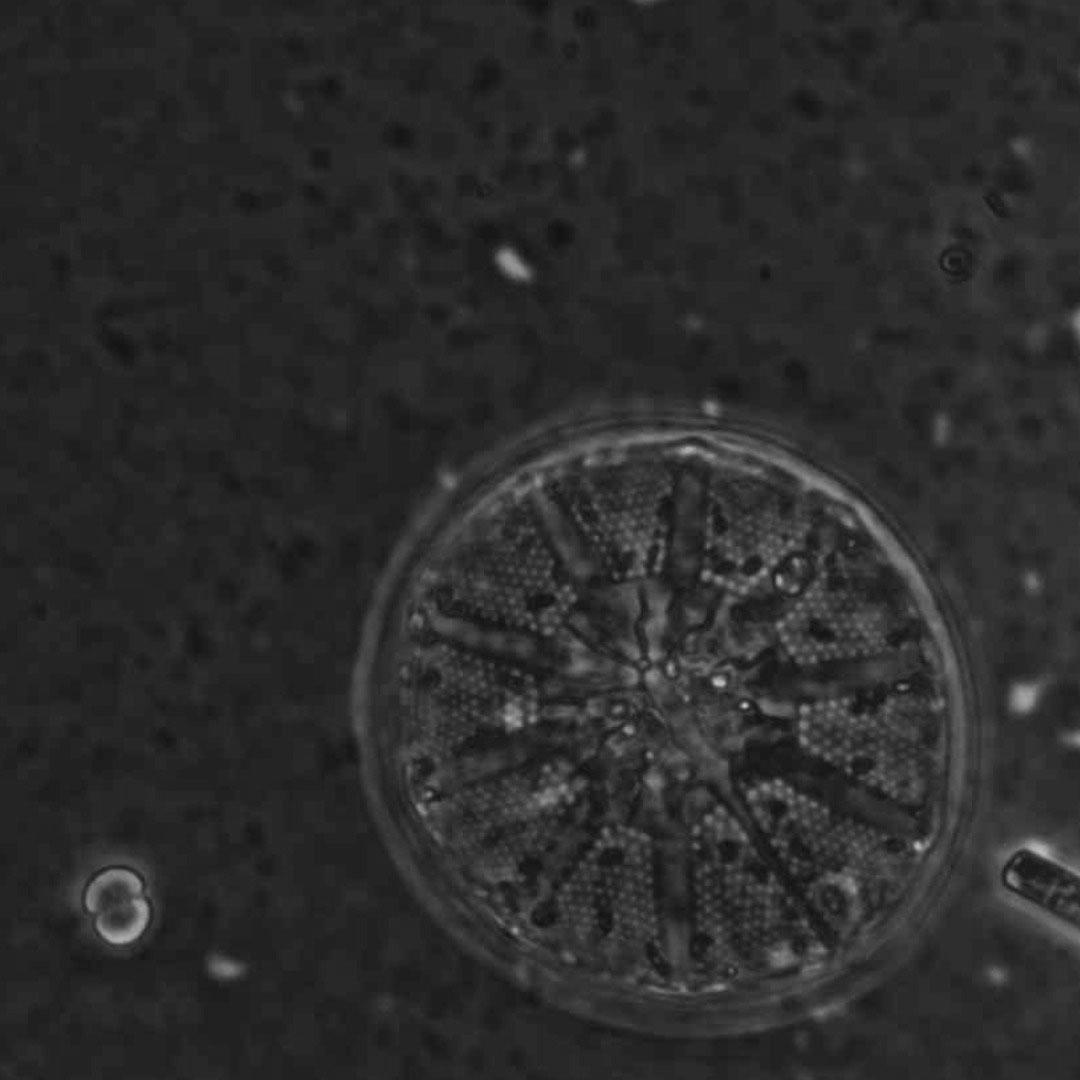asteromphalus_hyalinus: (376, 428, 953, 1005)
